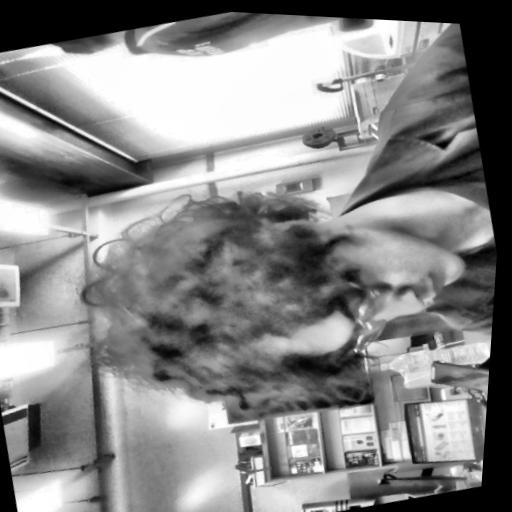Daifuku: (63, 136, 485, 441)
Not Daifuku: (36, 19, 157, 67)
